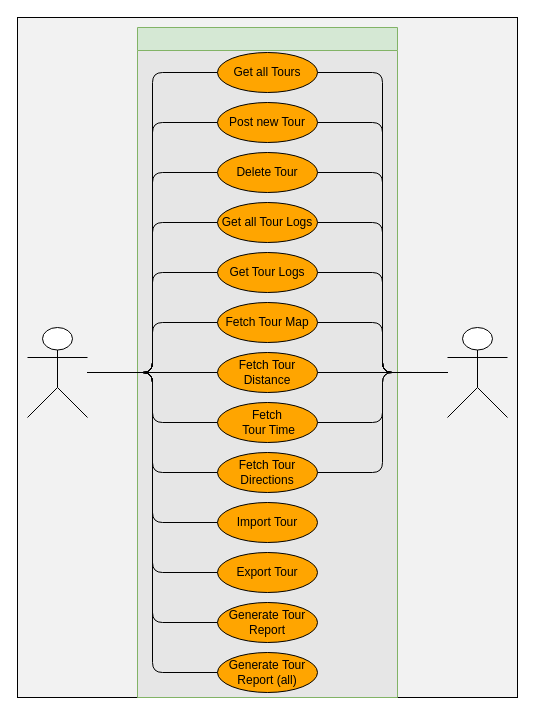
The diagram is 535 pixels wide and 715 high, and some of its shapes have lost their labels. The box of each missing label's shape, as (x1, y1, x2, y2) in pixels:
Server: (446, 326, 508, 418)
SWEN2 Tourplanner: (136, 26, 398, 698)
User: (26, 326, 88, 418)
